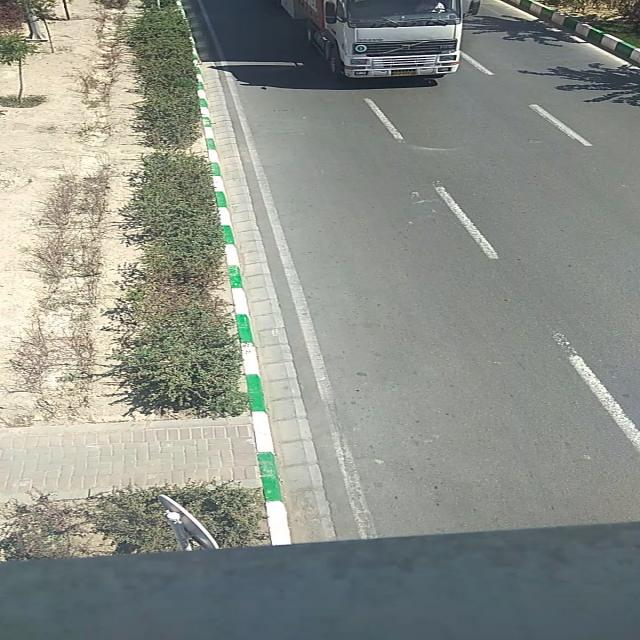truck: (281, 0, 483, 78)
